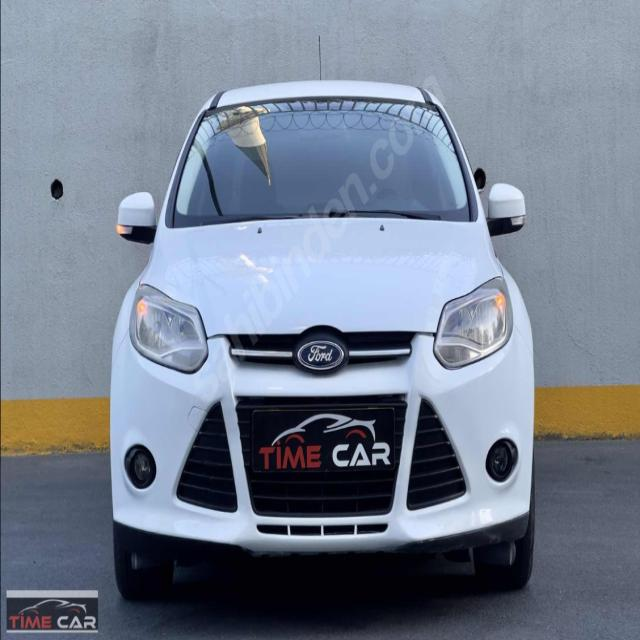ford: (294, 334, 349, 376)
